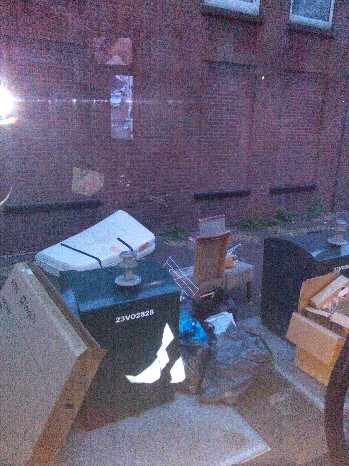Container: (67, 278, 179, 412), (259, 221, 298, 345)
Papier: (9, 270, 92, 460), (162, 318, 282, 405), (311, 276, 349, 389)
Rest: (58, 222, 153, 284), (179, 231, 239, 315)
